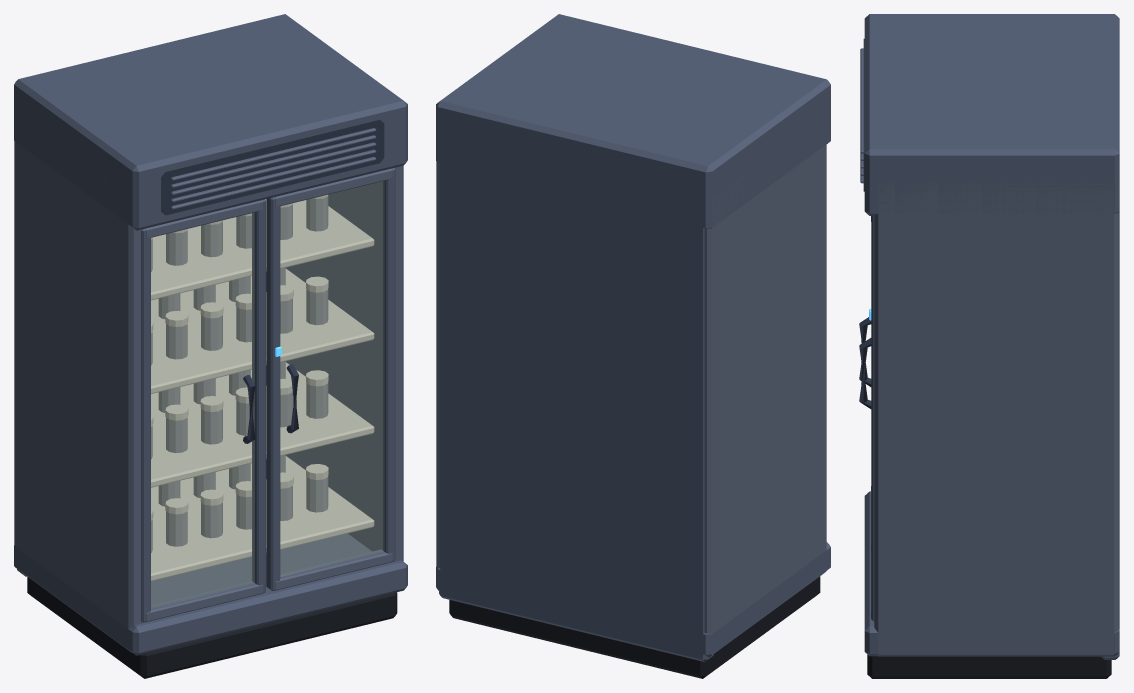
The model's file is bw_sample_fridge.glb.
3 renders of one model, left to right at view 1: azimuth 30°, elevation 25°; view 2: azimuth 150°, elevation 25°; view 3: azimuth 270°, elevation 25°, orthographic. The views are drawn at different scales.
Parts seen in each view (by area): view 1: cabinet_cap, cabinet_side, door_glass, shelf, vial, plinth, handle; view 2: cabinet_cap, cabinet_side, plinth; view 3: cabinet_side, cabinet_cap, plinth, handle.
Boxes of the visible parts, x1,y1,x2,y2 form: cabinet_cap: (14,14,407,655); cabinet_side: (14,128,403,652); door_glass: (151,181,383,607); shelf: (151,194,374,581); vial: (151,196,328,552); plinth: (27,576,397,678); handle: (161,119,384,443); cabinet_cap: (436,14,830,661); cabinet_side: (436,144,826,657); plinth: (449,576,820,678); cabinet_side: (860,48,1118,656); cabinet_cap: (864,14,1119,659); plinth: (867,654,1111,678); handle: (859,38,871,408).
Bounding box in the file's own units: 1.2 × 2.15 × 0.9498.
